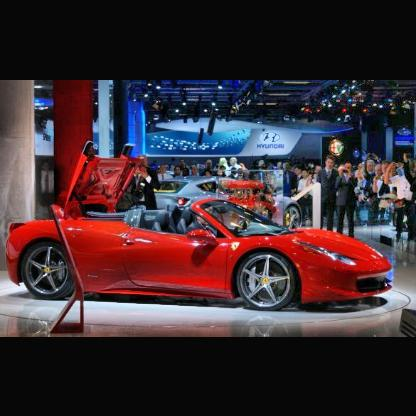Ferrari 458 Italia Convertible 2012: (8, 140, 392, 308)
